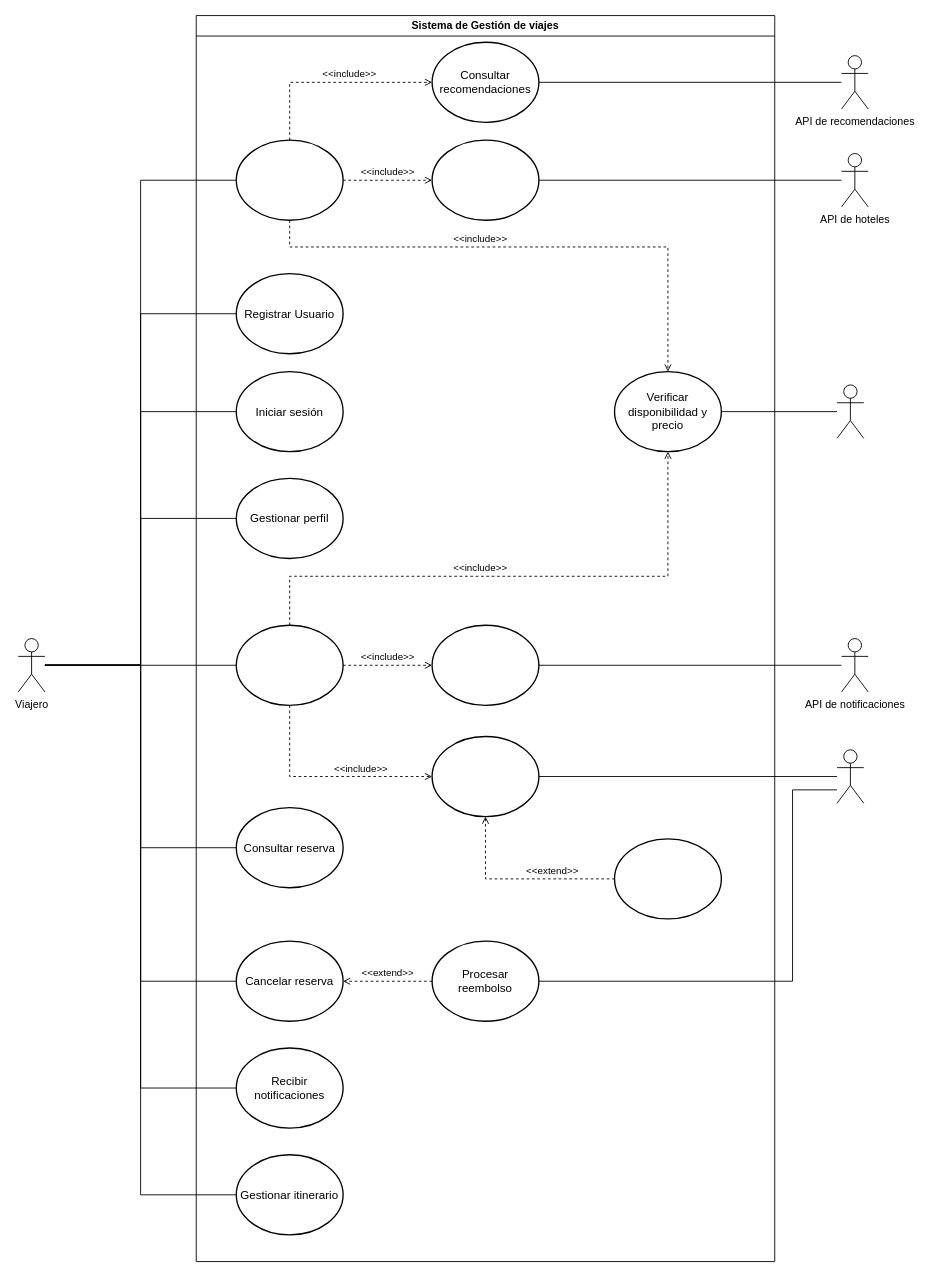
Image size: 930x1277. Some labels were removed from this diagram. Each missing label, with the box of its shape:
API de pagos: (836, 749, 864, 803)
API de vuelos: (836, 384, 864, 438)
Buscar vuelo: (235, 139, 343, 221)
Confirmar reserva: (235, 624, 343, 706)
Consultar hospedaje: (431, 139, 539, 221)
Enviar notificación: (431, 624, 539, 706)
Procesar pago: (431, 735, 539, 817)
Rechazar transacción: (613, 838, 722, 919)
